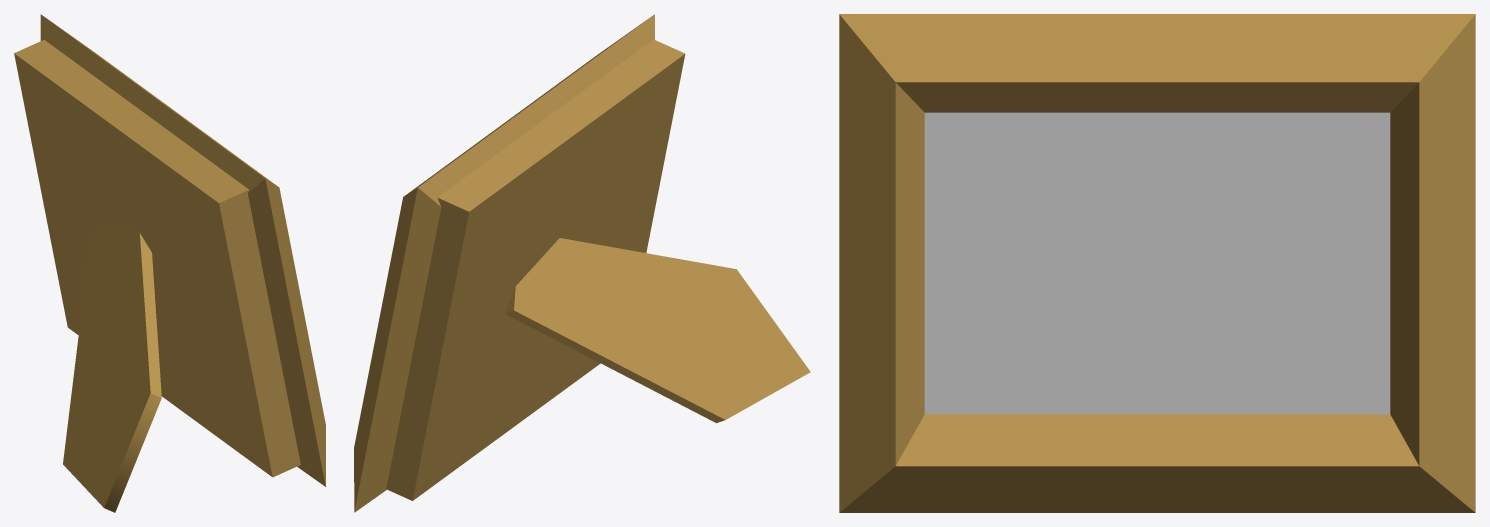
File: PictureFrame.fbx
3 views of the same model, side by side, from view 1: azimuth 30°, elevation 25°; view 2: azimuth 150°, elevation 25°; view 3: azimuth 270°, elevation 25° (orthographic). The views are drawn at different scales.
Visible parts, largest first — view 1: pCube88; view 2: pCube88; view 3: pCube88.
Part boxes in pixels (box(x1,y1,x2,y2)): pCube88: box(14, 14, 325, 512); pCube88: box(354, 14, 810, 512); pCube88: box(839, 14, 1475, 512).
Bounding box in the file's own units: 1.21 × 1.59 × 2.
